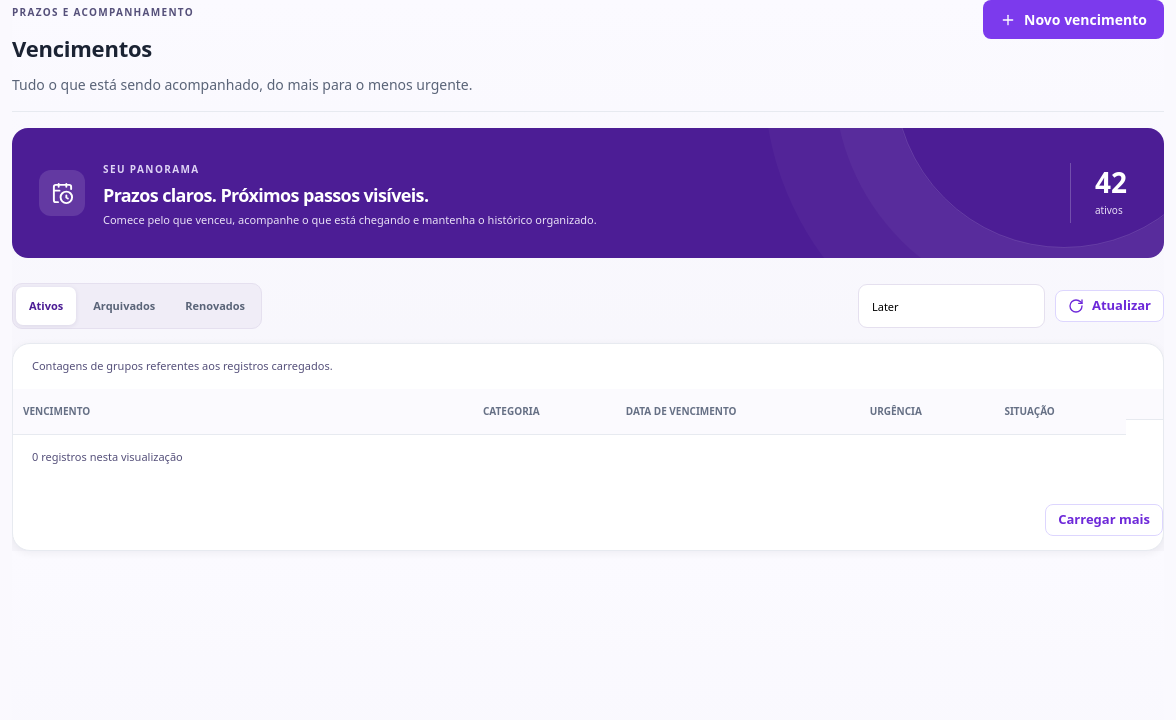
ItemsCollection › allows continuation from an empty page when the server still returns a cursor
Click the button "Carregar mais": (1104, 520) [1045, 504, 1163, 536]
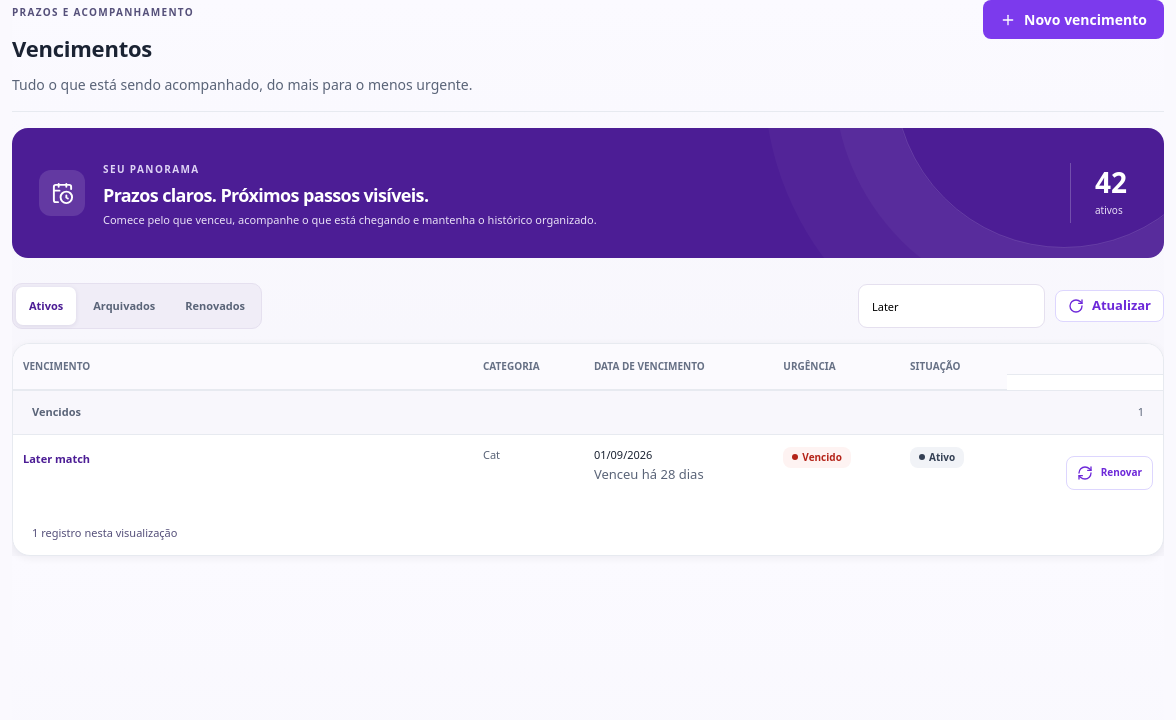
Now the link "Later match" is shown, box [23, 447, 90, 471]
